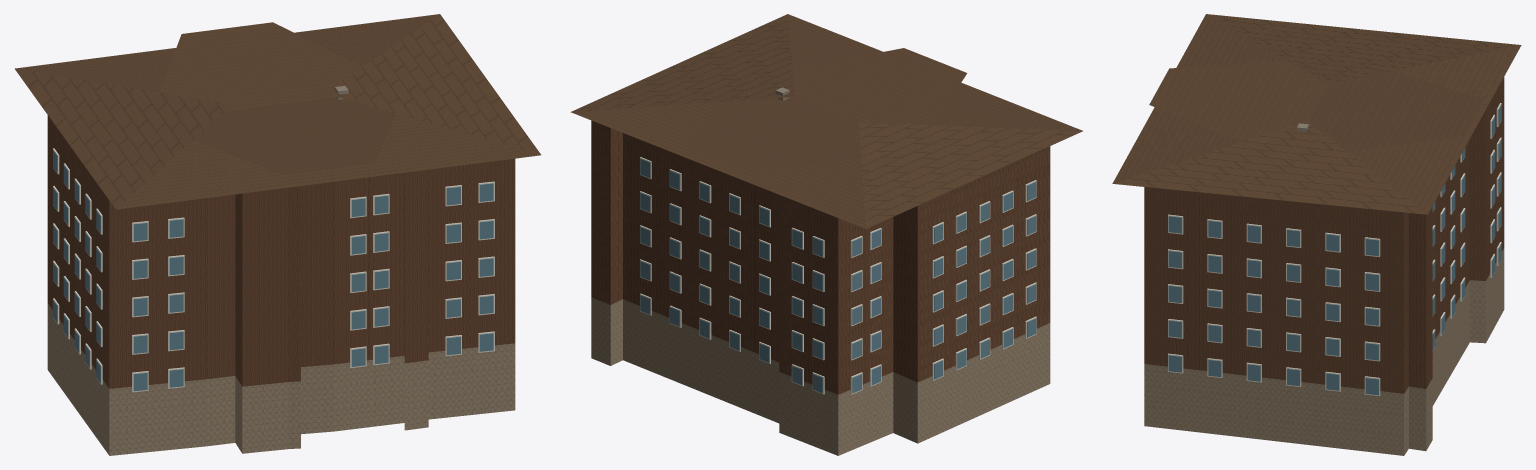
File: core_0048.gltf
3 renders of one model, left to right at view 1: azimuth 30°, elevation 25°; view 2: azimuth 150°, elevation 25°; view 3: azimuth 270°, elevation 25°, orthographic. The views are drawn at different scales.
Parts seen in each view (by area): view 1: core_0048; view 2: core_0048; view 3: core_0048.
Part boxes in pixels (x1,y1,x2,y2): core_0048: (15,14,540,455); core_0048: (570,14,1082,455); core_0048: (1112,14,1521,455).
Bounding box in the file's own units: 35.33 × 21.35 × 30.41.
Materials: 6 (6 with a texture image).
